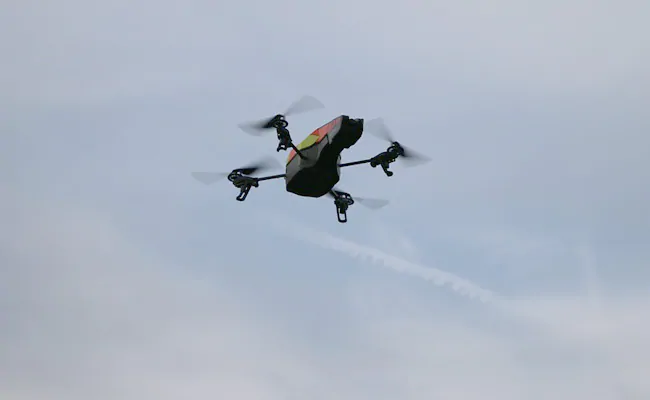drone: (187, 88, 449, 235)
